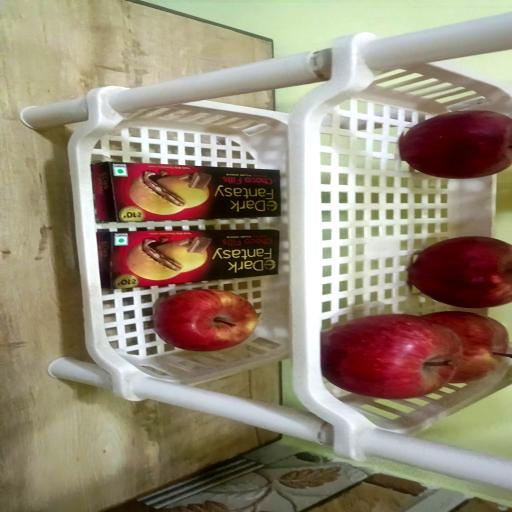Apple: (321, 314, 461, 399), (398, 110, 512, 179), (407, 236, 512, 309), (153, 289, 258, 351), (424, 311, 512, 383)
Choco Fills: (91, 161, 281, 222), (97, 230, 279, 289)
